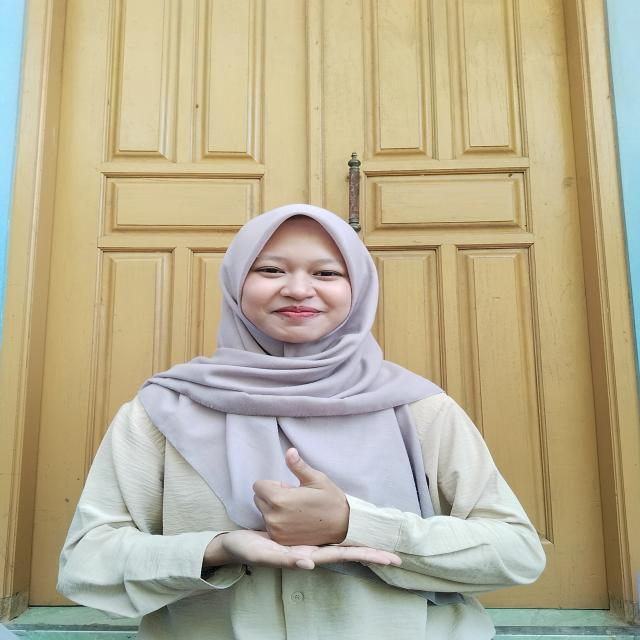cantik: (175, 446, 408, 574)
